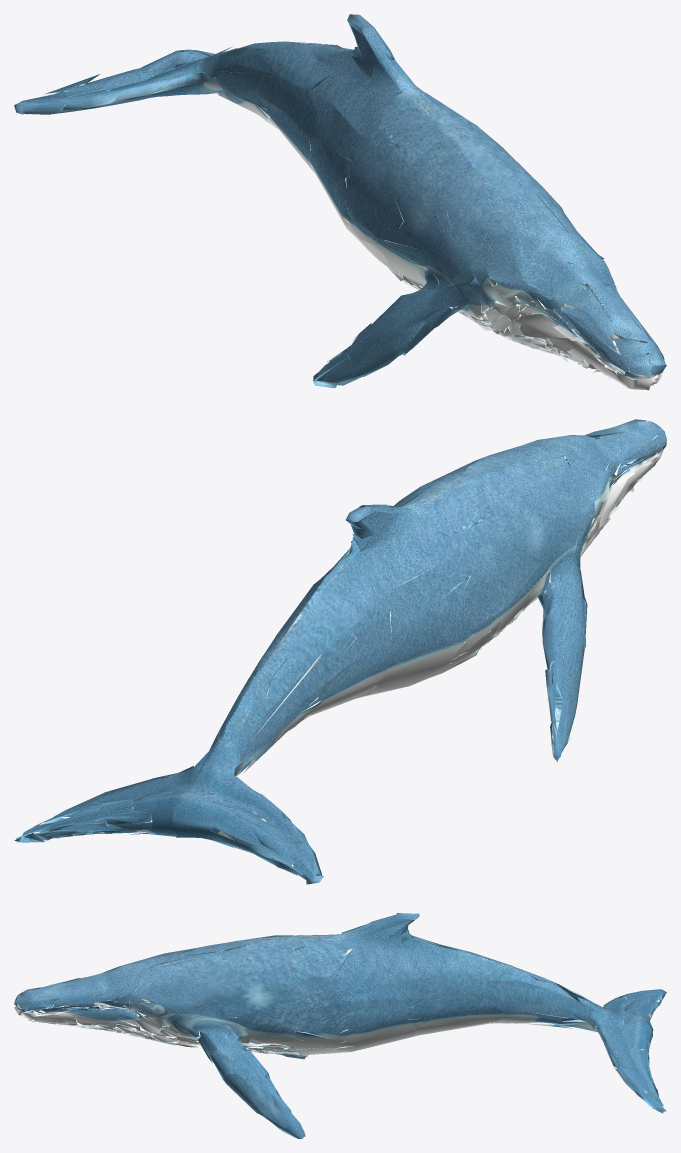
File: baleia.glb
The picture shows the model from 3 angles, top to bottom: view 1: azimuth 30°, elevation 25°; view 2: azimuth 150°, elevation 25°; view 3: azimuth 270°, elevation 25°; orthographic projection. The views are drawn at different scales.
Parts seen in each view (by area): view 1: baleia; view 2: baleia; view 3: baleia.
Part boxes in pixels (box(x1,y1,x2,y2)): baleia: box(14, 14, 666, 390); baleia: box(14, 419, 666, 884); baleia: box(14, 913, 666, 1138).
Size of the model in its own units: 5.01 by 4.41 by 14.03.
1 material, 1 textured.
